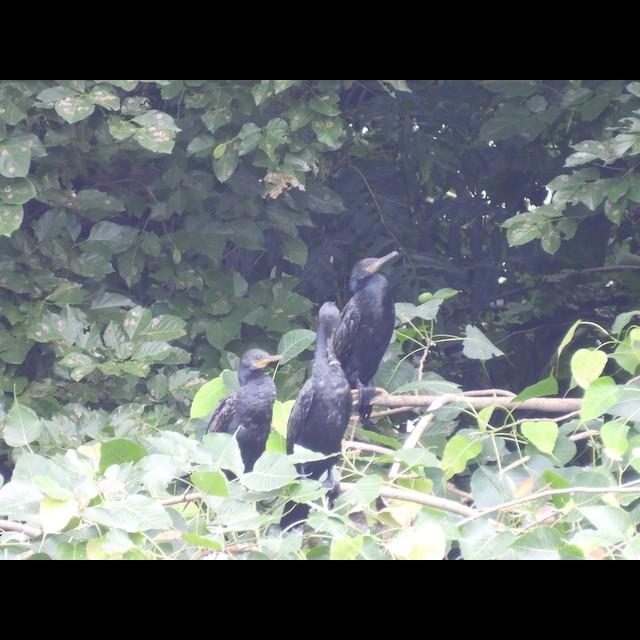cormorant: (207, 348, 281, 478), (348, 248, 412, 392)
